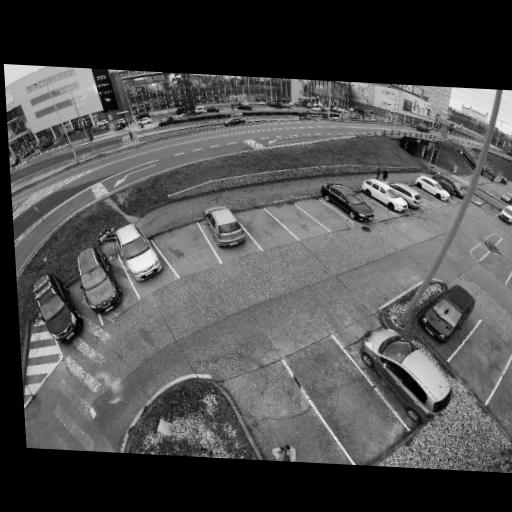busy: (355, 330, 453, 419), (70, 243, 120, 312), (419, 284, 478, 342), (111, 223, 166, 284), (30, 273, 79, 341), (205, 205, 250, 250), (324, 182, 373, 221), (364, 179, 407, 214), (415, 175, 450, 202), (389, 181, 421, 209), (437, 175, 465, 198), (497, 206, 512, 224), (298, 109, 317, 120)
free: (253, 406, 320, 455), (319, 380, 376, 426), (463, 339, 502, 370), (166, 236, 200, 260), (486, 250, 512, 278), (250, 218, 278, 237), (284, 212, 308, 228), (497, 239, 512, 259), (502, 376, 512, 405), (312, 206, 330, 220), (418, 189, 432, 204)
